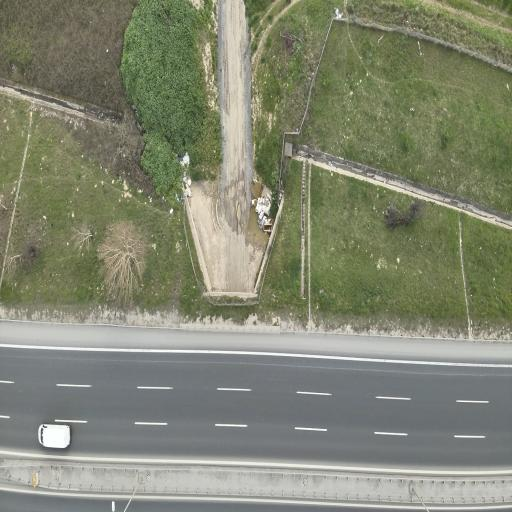car: (38, 423, 69, 447)
